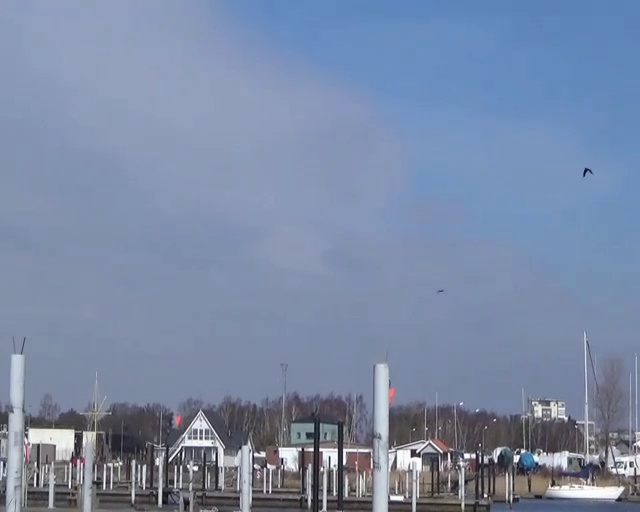BIRD: (582, 167, 594, 177)
